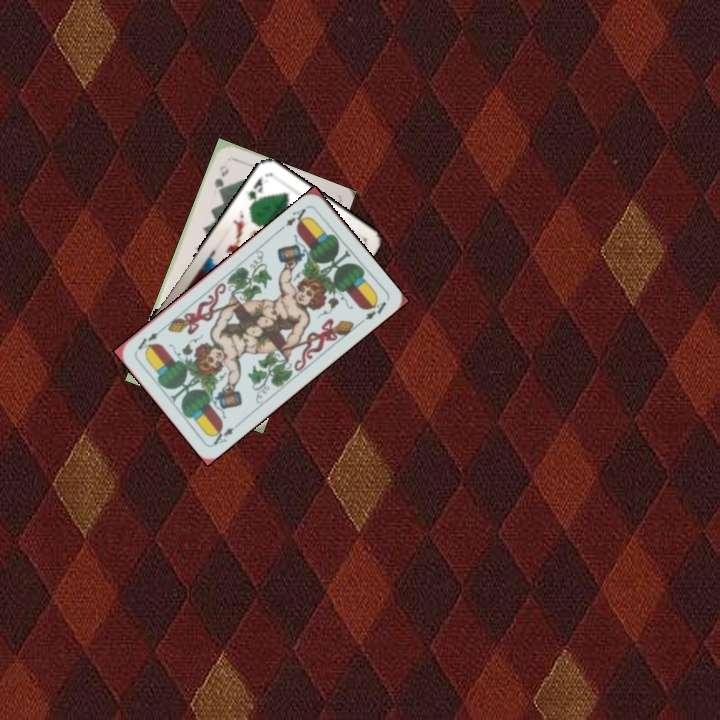EA: (281, 202, 311, 231), (207, 423, 236, 448)
G9: (210, 161, 231, 195)
GK: (243, 173, 266, 210)
